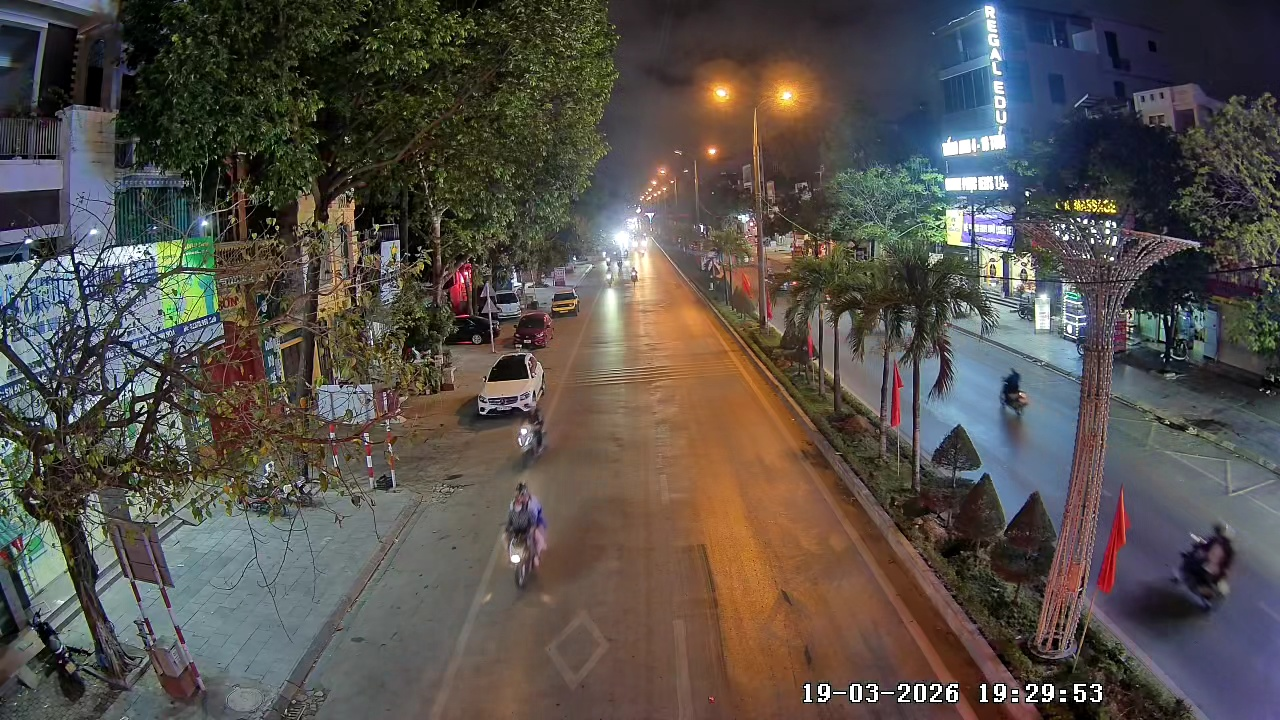car: (476, 348, 549, 420), (513, 309, 552, 350), (551, 282, 581, 317)
motorbike: (500, 480, 550, 591), (996, 366, 1031, 431), (515, 411, 549, 465)
